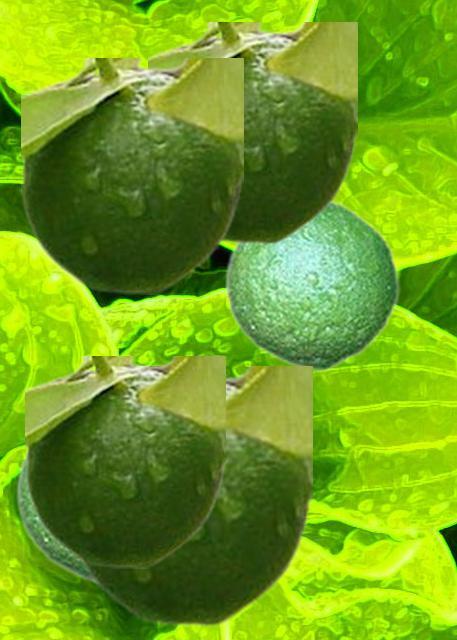dalandan: (73, 366, 311, 625), (21, 58, 242, 293), (148, 22, 356, 243), (25, 356, 224, 567), (223, 197, 399, 371), (14, 446, 94, 586)
